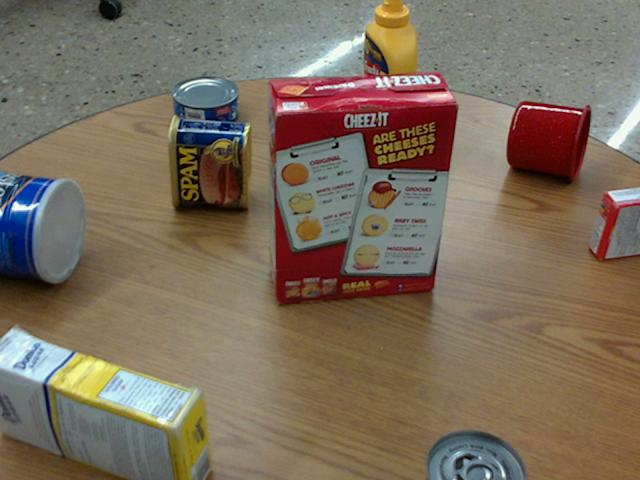cracker_box: (267, 70, 458, 301)
gelatin_box: (590, 189, 639, 261)
master_chef_can: (0, 171, 87, 282)
mug: (507, 100, 590, 181)
mustard_bottle: (360, 0, 416, 153)
potted_meat_can: (168, 113, 250, 205)
sugar_box: (0, 329, 211, 479)
tomato_soup_can: (426, 429, 528, 479)
tuna_fish_can: (173, 74, 239, 128)
